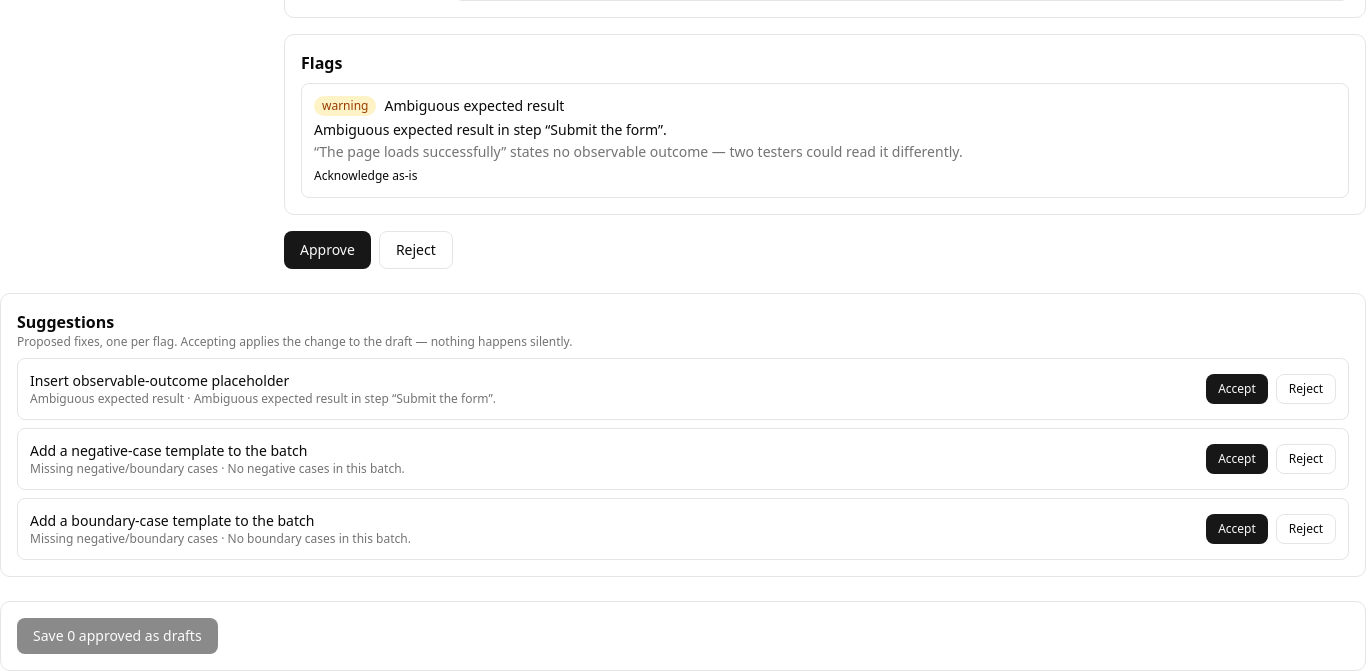
it: ReviewWorkspace › accepting a suggestion updates the draft text
(page scrolled)
Expected: the text "Ambiguous expected result" is shown, [384,96,564,116]
Click the button "Accept" in the row of "Insert observable-outcome placeholder": (1237, 389) [1206,374,1268,404]
(page scrolled)
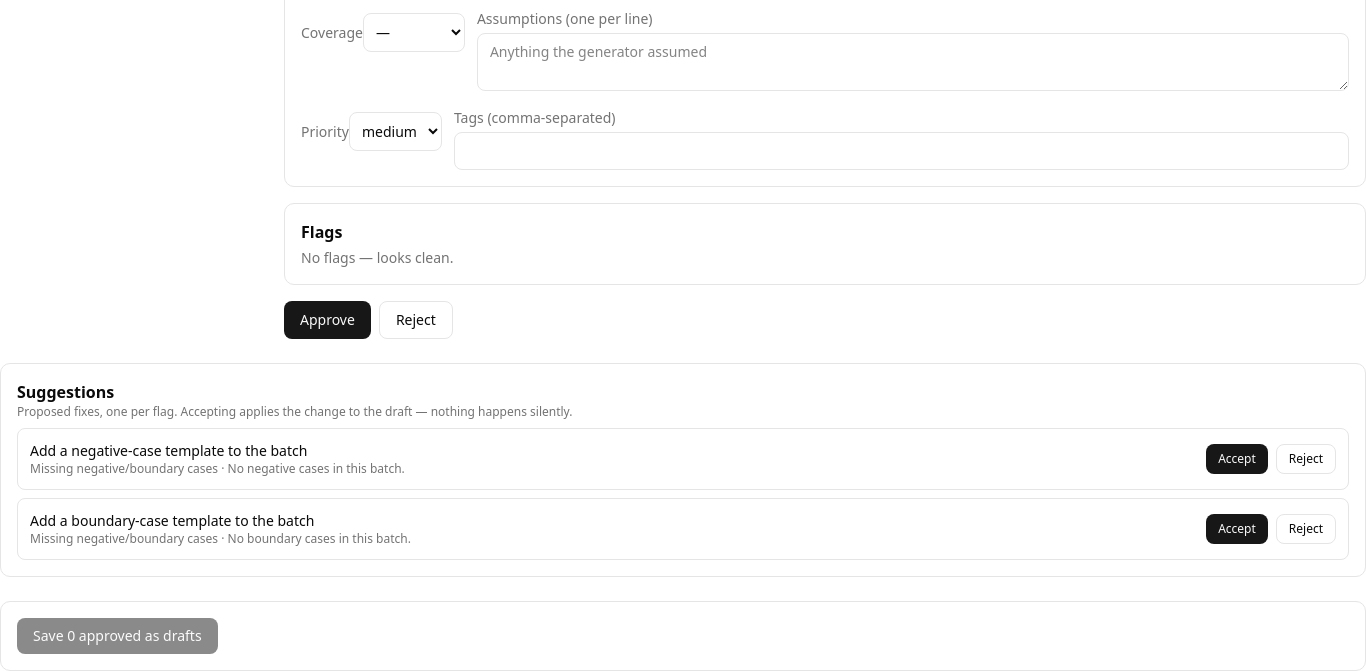
Expected: the text "Ambiguous expected result" is gone
